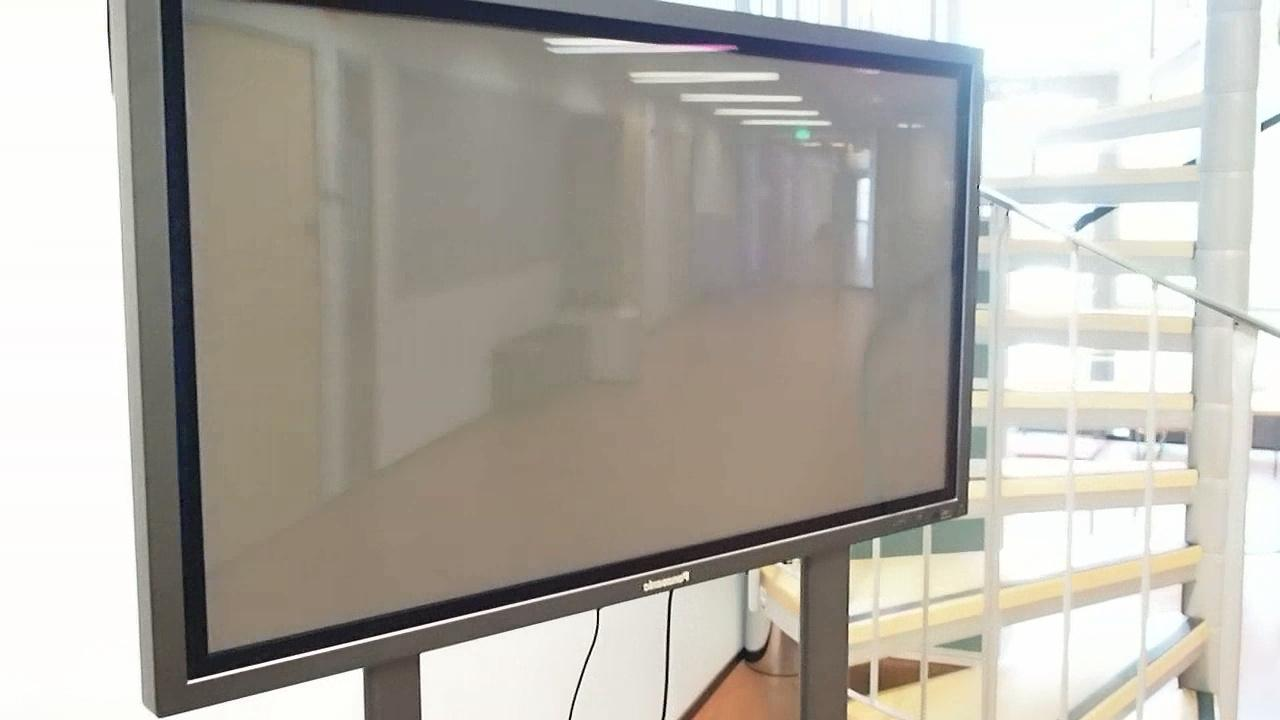screen: (141, 28, 991, 685)
